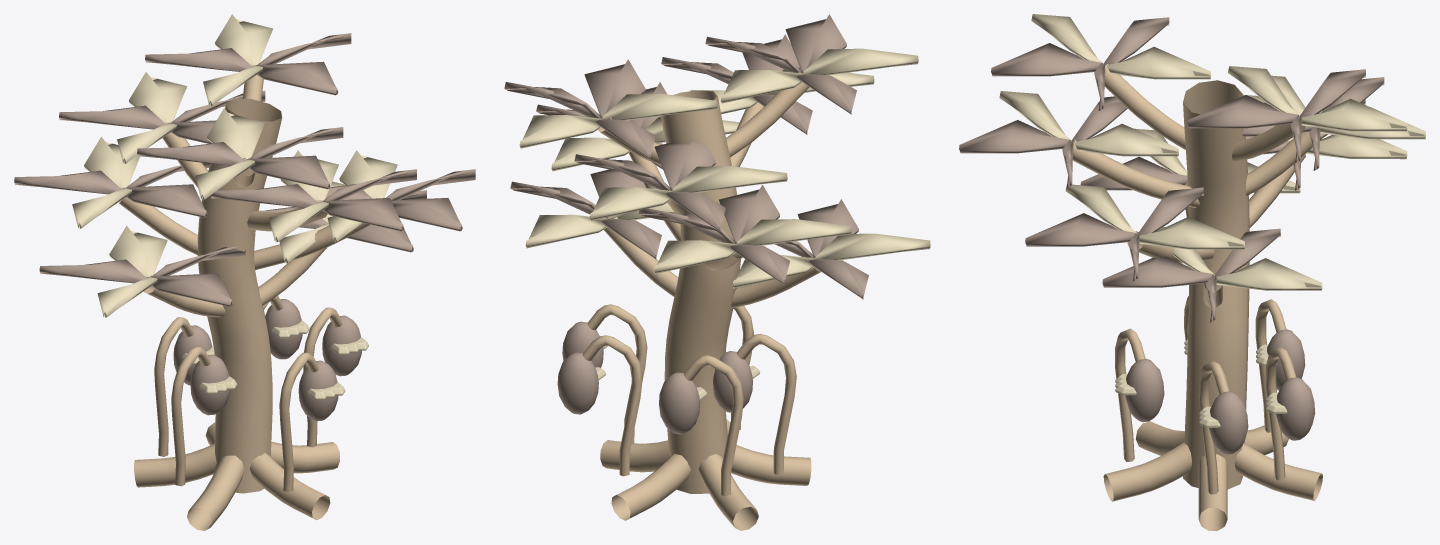
File: bio_canopy_tree_13_far.glb
The picture shows the model from 3 angles, left to right: view 1: azimuth 30°, elevation 25°; view 2: azimuth 150°, elevation 25°; view 3: azimuth 270°, elevation 25°; orthographic projection. The views are drawn at different scales.
Parts seen in each view (by area): view 1: Buttressed trunk, Broad canopy leaf.035, Broad canopy leaf.015, Broad canopy leaf.010, Broad canopy leaf.020, Broad canopy leaf.005, Broad canopy leaf.030, Broad canopy leaf.021, Broad canopy leaf.036, Broad canopy leaf.016, Broad canopy leaf.025, Broad canopy leaf.031 (+14 smaller); view 2: Buttressed trunk, Broad canopy leaf.015, Broad canopy leaf.035, Broad canopy leaf.005, Broad canopy leaf.030, Broad canopy leaf.006, Broad canopy leaf.031, Broad canopy leaf.016, Broad canopy leaf.036, Broad canopy leaf.021, Broad canopy leaf, Broad canopy leaf.020 (+13 smaller); view 3: Buttressed trunk, Broad canopy leaf.035, Broad canopy leaf.015, Broad canopy leaf.025, Broad canopy leaf, Broad canopy leaf.010, Broad canopy leaf.016, Broad canopy leaf.011, Broad canopy leaf.026, Broad canopy leaf.036, Broad canopy leaf.001, Pendant spore capsule.002 (+12 smaller).
Part boxes in pixels (x1,y1,x2,y2): Buttressed trunk: (119, 75, 370, 530); Broad canopy leaf.035: (137, 127, 343, 189); Broad canopy leaf.015: (145, 33, 351, 95); Broad canopy leaf.010: (211, 169, 416, 231); Broad canopy leaf.020: (39, 246, 245, 306); Broad canopy leaf.005: (14, 162, 209, 217); Broad canopy leaf.030: (59, 90, 265, 143); Broad canopy leaf.021: (97, 225, 167, 317); Broad canopy leaf.036: (195, 108, 265, 199); Broad canopy leaf.016: (203, 14, 272, 106); Broad canopy leaf.025: (325, 169, 475, 231); Broad canopy leaf.031: (117, 72, 186, 163); Buttressed trunk: (598, 71, 820, 530); Broad canopy leaf.015: (504, 59, 655, 159); Broad canopy leaf.035: (705, 14, 856, 114); Broad canopy leaf.005: (638, 185, 789, 284); Broad canopy leaf.030: (574, 141, 725, 232); Broad canopy leaf.006: (654, 219, 851, 273); Broad canopy leaf.031: (589, 166, 787, 220); Broad canopy leaf.016: (519, 93, 717, 148); Broad canopy leaf.036: (720, 48, 918, 103); Broad canopy leaf.021: (732, 233, 930, 288); Broad canopy leaf: (510, 169, 661, 259); Broad canopy leaf.020: (775, 199, 868, 299); Buttressed trunk: (1072, 64, 1322, 530); Broad canopy leaf.035: (991, 17, 1169, 110); Broad canopy leaf.015: (1187, 69, 1365, 163); Broad canopy leaf.025: (1025, 187, 1203, 281); Broad canopy leaf: (1102, 228, 1280, 322); Broad canopy leaf.010: (959, 96, 1127, 187); Broad canopy leaf.016: (1228, 66, 1407, 131); Broad canopy leaf.011: (999, 91, 1178, 156); Broad canopy leaf.026: (1065, 184, 1244, 249); Broad canopy leaf.036: (1031, 14, 1210, 79); Broad canopy leaf.001: (1157, 227, 1322, 290); Pendant spore capsule.002: (1125, 358, 1164, 422).
Size of the model in its own units: 2.97 by 2.99 by 3.05.
